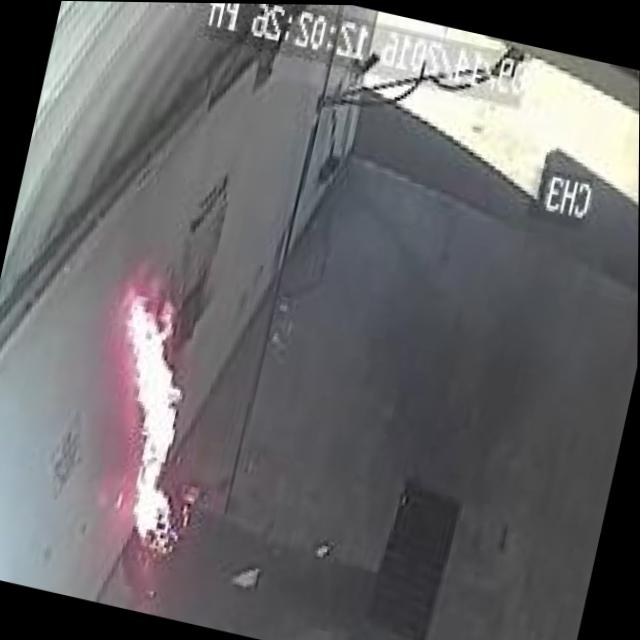fire: (58, 264, 243, 561)
